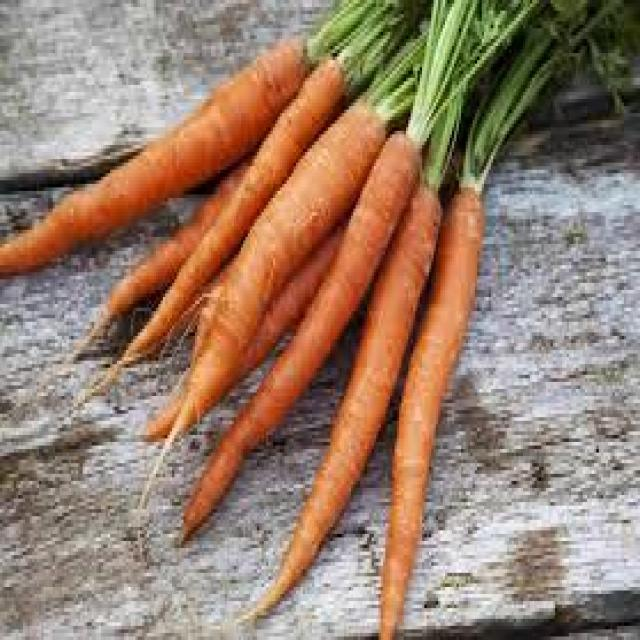Fresh_Carrot: (203, 169, 421, 527)
